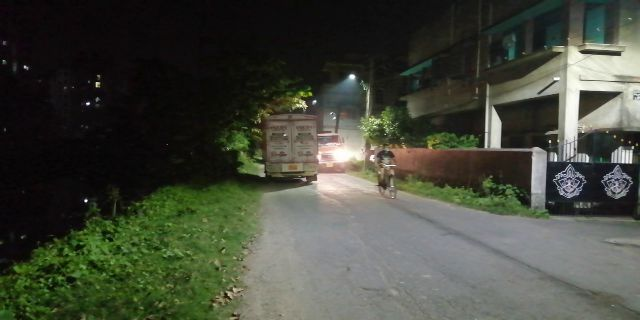Cycle: (373, 143, 403, 208)
Minitruck: (261, 111, 325, 189)
